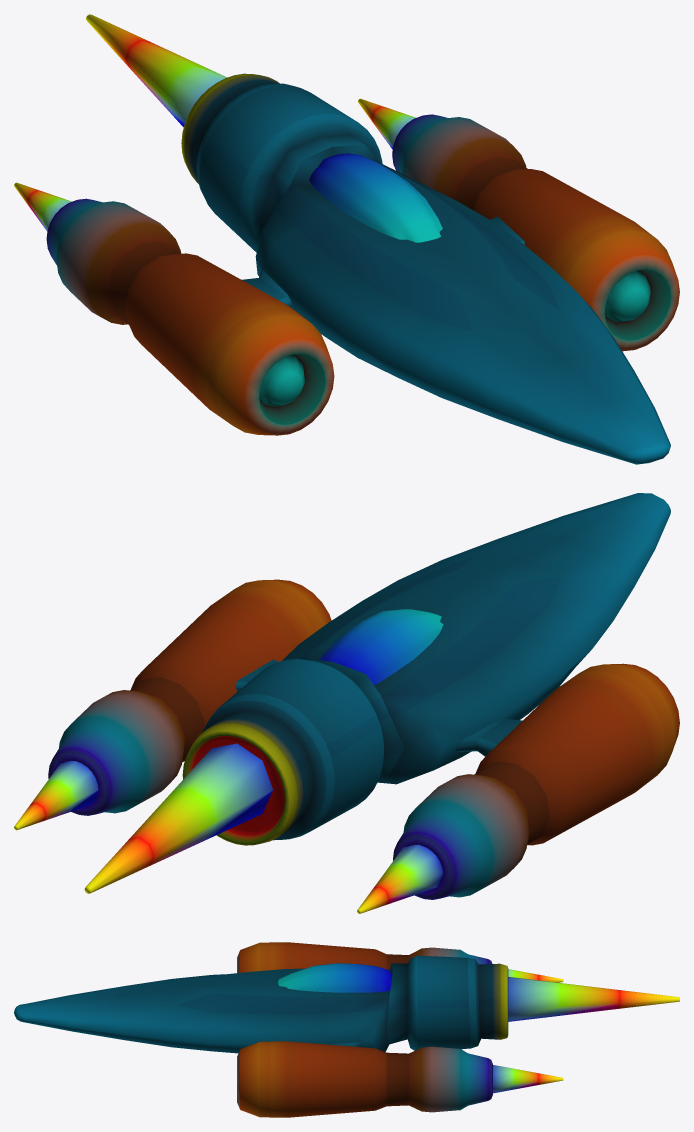
The model's file is Ship_V1.fbx.
The picture shows the model from 3 angles, top to bottom: view 1: azimuth 30°, elevation 25°; view 2: azimuth 150°, elevation 25°; view 3: azimuth 270°, elevation 25°; orthographic projection. The views are drawn at different scales.
Visible parts, largest first — view 1: Ship_001.005; view 2: Ship_001.005; view 3: Ship_001.005.
Part boxes in pixels (<box>): Ship_001.005: <box>14,14,679,464</box>; Ship_001.005: <box>14,493,679,913</box>; Ship_001.005: <box>14,942,679,1117</box>.
Bounding box in the file's own units: 1246 × 463 × 2667.
